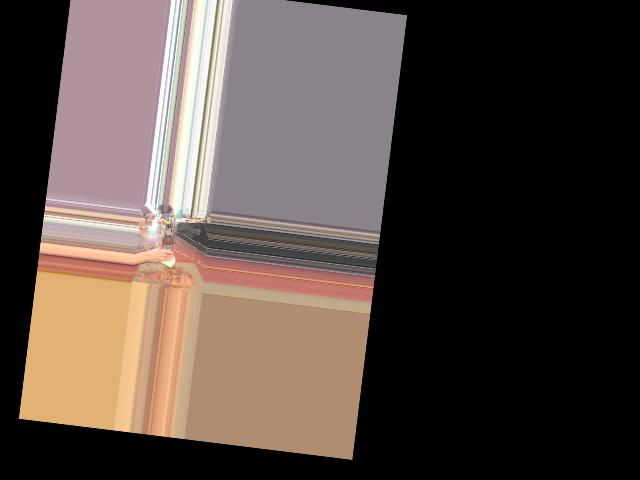beer: (160, 222, 176, 261)
